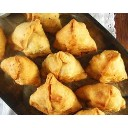samosa: (27, 74, 80, 115), (54, 20, 98, 55), (9, 20, 51, 56), (78, 81, 127, 111), (87, 48, 128, 83), (1, 54, 42, 85), (44, 52, 85, 80)
